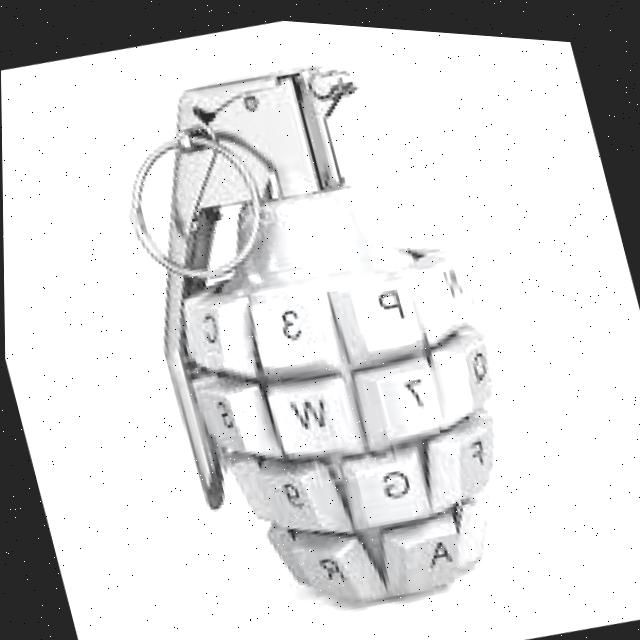grenade: (63, 9, 544, 640)
